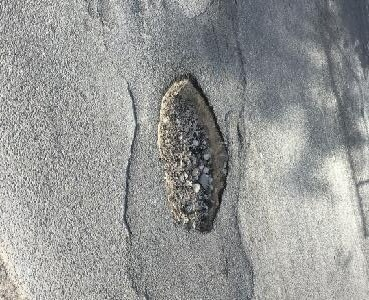pothole: (156, 70, 233, 236)
